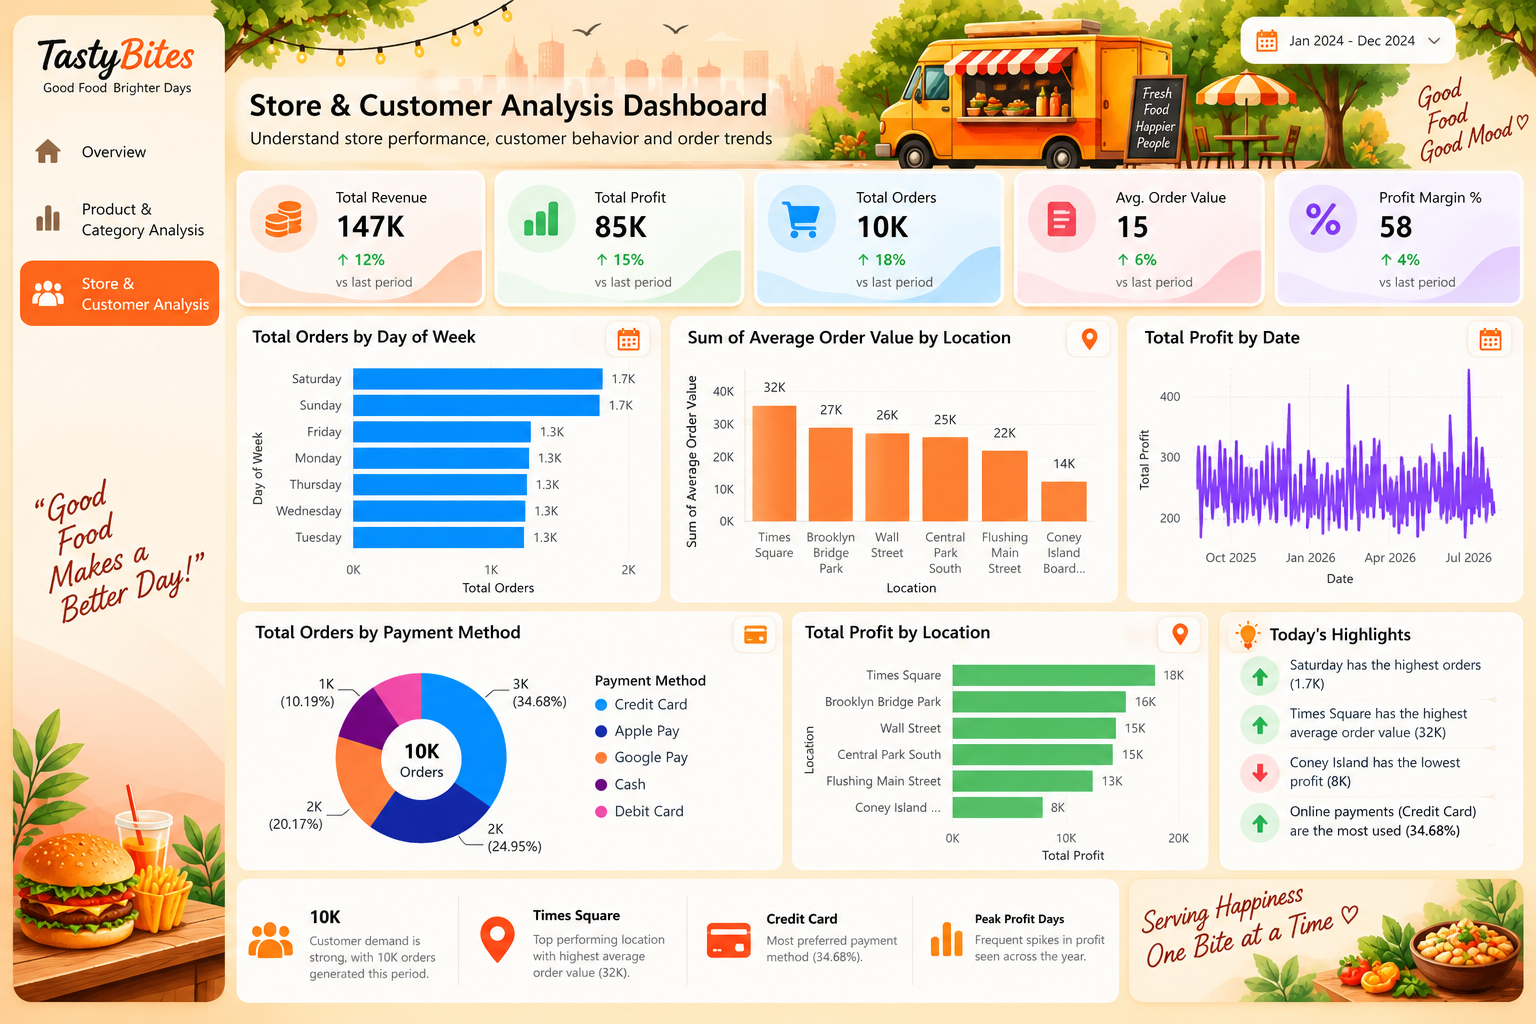

The dashboard page shown, as its layout file describes it:
{"tool":"powerbi","page":{"name":"Page 3","canvas":[1280,720],"ordinal":2},"visuals":[{"type":"clusteredBarChart","fields":{"Category":["Sales.Day of Week"],"Y":["DateTable.Total Orders"]},"box":[19.2,120.8,388.3,343.1],"z":0},{"type":"pieChart","fields":{"Category":["Sales.Payment Method"],"Y":["DateTable.Total Orders"]},"box":[19,474,388,246],"z":1000},{"type":"columnChart","fields":{"Category":["Sales.Location"],"Y":["Sum(Sales.Average Order value)"]},"box":[407.5,166,370.5,307.4],"z":2000},{"type":"advanceCardE03760C5AB684758B56AA29F9E6C257B","fields":{"mainMeasure":["NYC_Street_Bites_Synthetic_Dataset_1.Total Revenue"]},"box":[24.7,54.9,279.9,101.5],"z":3000},{"type":"advanceCardE03760C5AB684758B56AA29F9E6C257B","fields":{"mainMeasure":["Sales.Total Profit"]},"box":[292.3,43.9,279.9,101.5],"z":4000},{"type":"advanceCardE03760C5AB684758B56AA29F9E6C257B","fields":{"mainMeasure":["DateTable.Total Orders"]},"box":[484.4,54.9,279.9,101.5],"z":5000},{"type":"advanceCardE03760C5AB684758B56AA29F9E6C257B","fields":{"mainMeasure":["Avg(Sales.Average Order value)"]},"box":[735.5,43.9,279.9,101.5],"z":6000},{"type":"advanceCardE03760C5AB684758B56AA29F9E6C257B","fields":{"mainMeasure":["Sales.Profit Mergin %"]},"box":[1015.4,31.6,264.8,124.9],"z":7000},{"type":"clusteredBarChart","fields":{"Category":["Sales.Location"],"Y":["Sales.Total Profit"]},"box":[893.3,440.5,387,279.9],"z":8000},{"type":"lineChart","fields":{"Category":["Sales.Date"],"Y":["Sales.Total Profit"]},"box":[875.5,160.5,404.8,279.9],"z":9000}]}

Visuals, with their boxes on the page's 1280x720 design canvas (x1, y1, x2, y2). These are canvas units, not pixel positions in the 1536x1024 screenshot, which may show the page scaled, cropped or inside an application window:
clusteredBarChart - Sales.Day of Week x DateTable.Total Orders: (19,121,408,464)
pieChart - Sales.Payment Method x DateTable.Total Orders: (19,474,407,720)
columnChart - Sales.Location x Sum(Sales.Average Order value): (408,166,778,473)
advanceCardE03760C5AB684758B56AA29F9E6C257B - NYC_Street_Bites_Synthetic_Dataset_1.Total Revenue: (25,55,305,156)
advanceCardE03760C5AB684758B56AA29F9E6C257B - Sales.Total Profit: (292,44,572,145)
advanceCardE03760C5AB684758B56AA29F9E6C257B - DateTable.Total Orders: (484,55,764,156)
advanceCardE03760C5AB684758B56AA29F9E6C257B - Avg(Sales.Average Order value): (736,44,1015,145)
advanceCardE03760C5AB684758B56AA29F9E6C257B - Sales.Profit Mergin %: (1015,32,1280,156)
clusteredBarChart - Sales.Location x Sales.Total Profit: (893,440,1280,720)
lineChart - Sales.Date x Sales.Total Profit: (876,160,1280,440)
